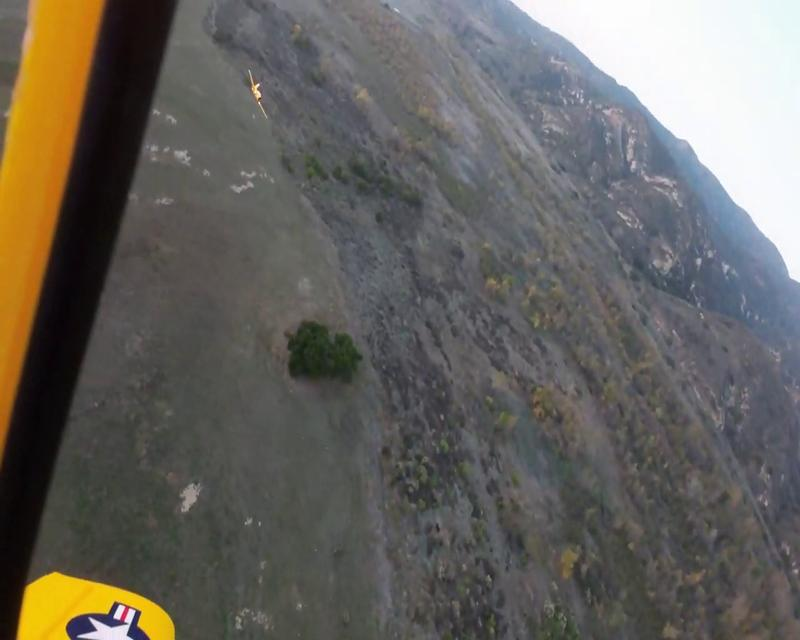UAV: (245, 66, 270, 120)
